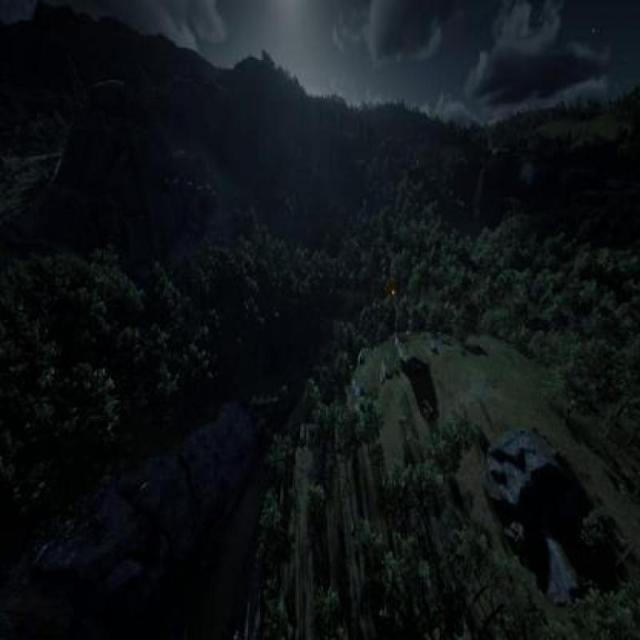Fire: (389, 280, 401, 310)
